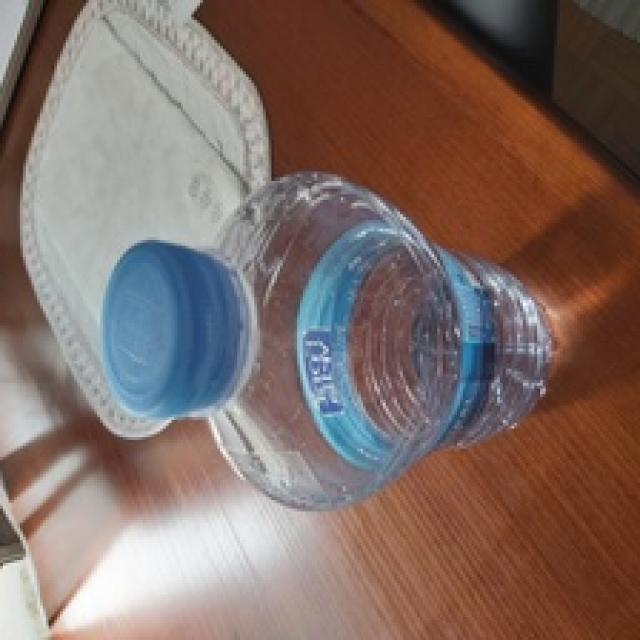Plastic: (100, 165, 550, 512)
